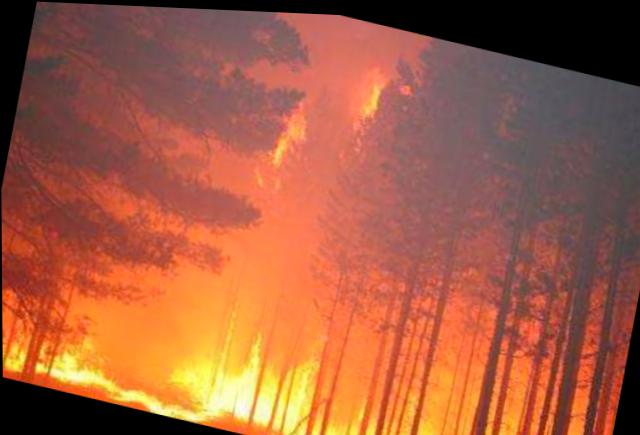fire: (1, 291, 611, 434), (261, 83, 318, 177), (348, 60, 394, 124)
